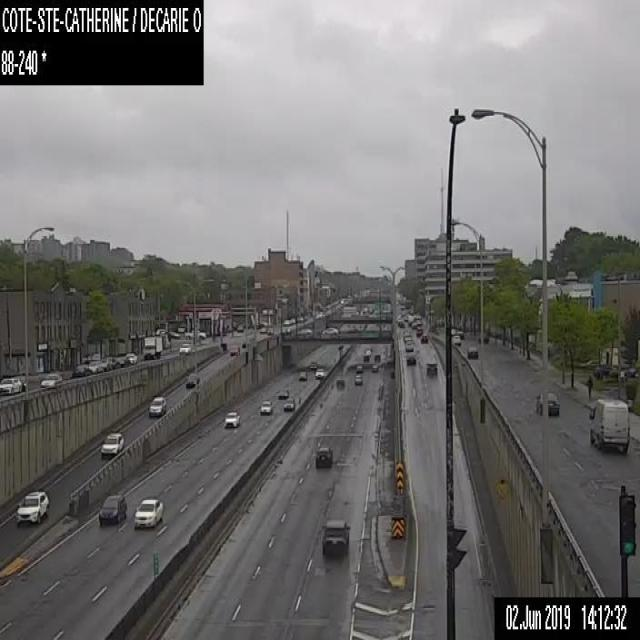pedestrian: (586, 373, 594, 400)
vehicle: (588, 397, 630, 454), (16, 491, 48, 524), (320, 519, 349, 553), (98, 494, 126, 527), (133, 498, 162, 529), (534, 391, 560, 417), (100, 432, 123, 457), (142, 336, 161, 359), (315, 446, 332, 468), (148, 396, 166, 416), (0, 377, 21, 394), (40, 372, 62, 386), (100, 356, 116, 371), (184, 372, 199, 388), (71, 364, 91, 376), (224, 411, 239, 426), (464, 342, 478, 358), (259, 399, 273, 414), (184, 329, 204, 339), (282, 396, 295, 411), (88, 360, 102, 372), (425, 361, 437, 375), (228, 344, 240, 356), (321, 326, 338, 334), (126, 352, 137, 363), (406, 352, 416, 364), (297, 328, 312, 336), (276, 388, 288, 398), (334, 377, 346, 387), (178, 343, 190, 353), (20, 376, 28, 390), (118, 356, 129, 366), (168, 330, 180, 339), (411, 319, 422, 328), (451, 335, 460, 346), (403, 329, 411, 341), (404, 340, 413, 350), (314, 368, 323, 377), (396, 318, 404, 328), (354, 374, 362, 384), (420, 333, 428, 343), (298, 370, 306, 380), (177, 324, 186, 332), (355, 364, 363, 372), (456, 330, 463, 339), (362, 353, 369, 362), (374, 352, 380, 362), (416, 326, 422, 336), (371, 364, 378, 371), (236, 325, 243, 332), (309, 361, 316, 368), (283, 318, 291, 324), (258, 326, 266, 332), (156, 328, 164, 334), (451, 328, 456, 335), (365, 349, 370, 355), (290, 317, 295, 323), (267, 328, 273, 333)
